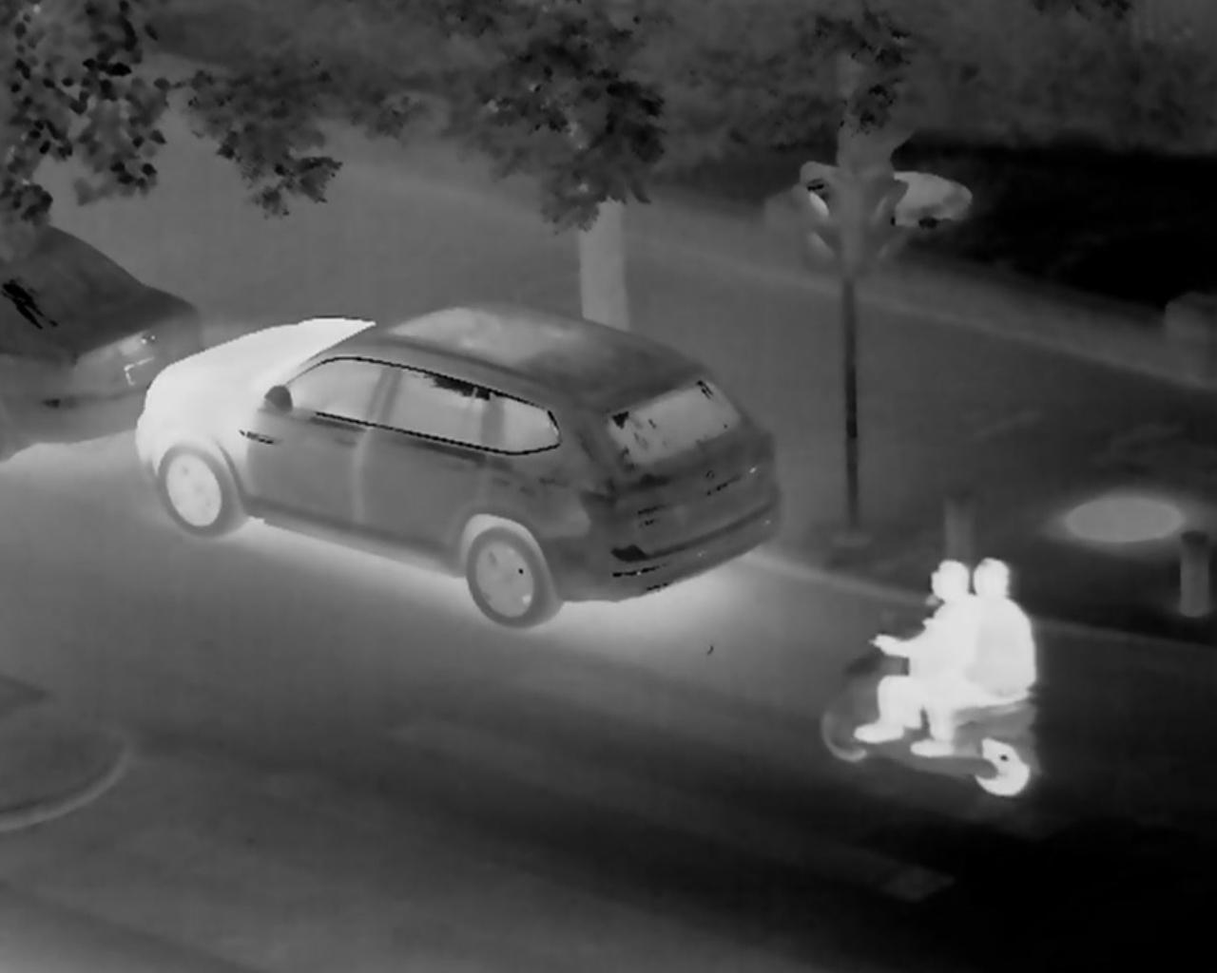person: (912, 552, 1038, 762), (847, 552, 979, 746)
